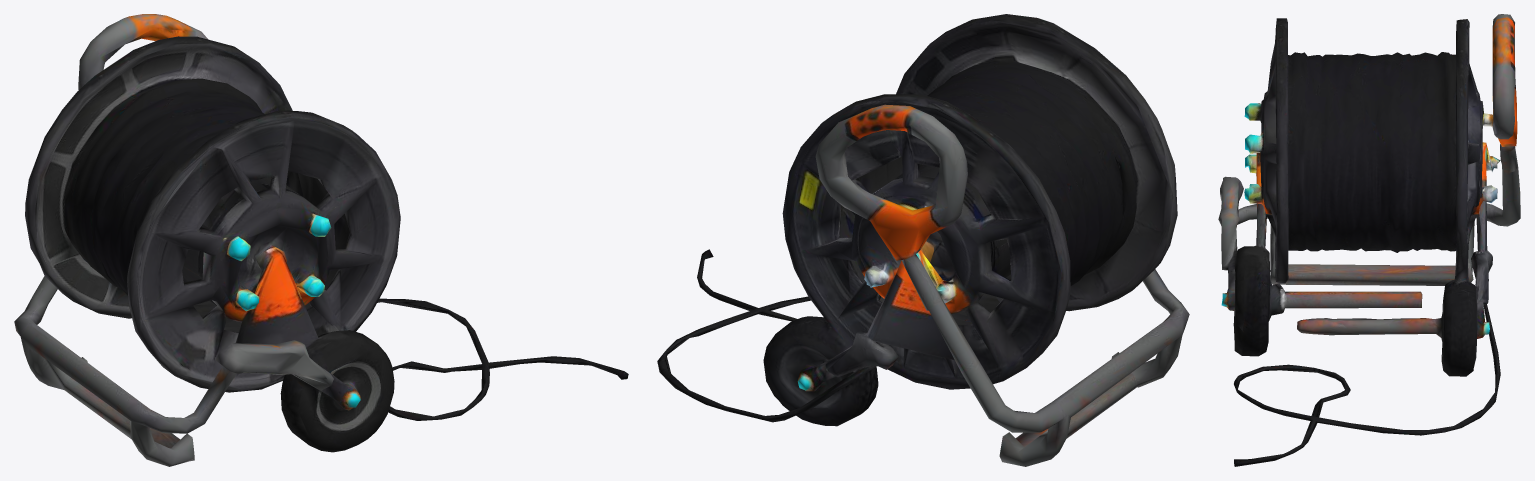
The model's file is cable_spool_cart.glb.
3 renders of one model, left to right at view 1: azimuth 30°, elevation 25°; view 2: azimuth 150°, elevation 25°; view 3: azimuth 270°, elevation 25°, orthographic. The views are drawn at different scales.
Bounding box in the file's own units: 1.9 × 1.3 × 1.17.
Materials: 1 (1 with a texture image).
